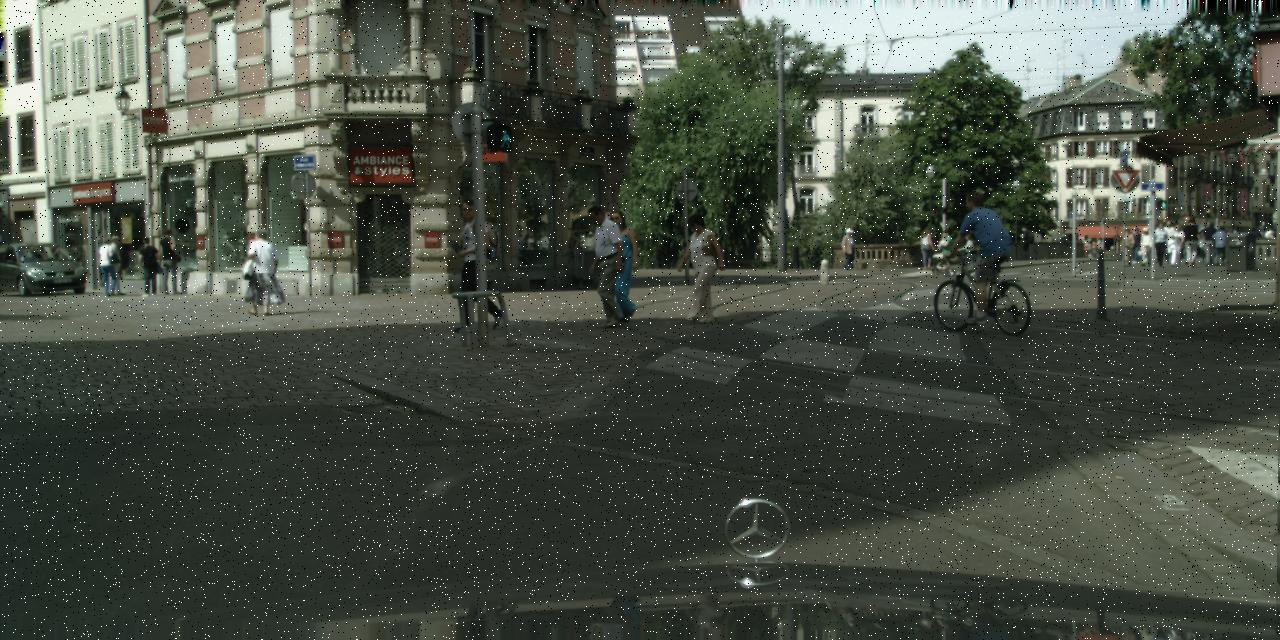ped: (448, 199, 501, 328), (960, 191, 1009, 311), (576, 206, 624, 326), (599, 210, 644, 319), (674, 213, 718, 323), (243, 226, 278, 315), (156, 228, 182, 294), (104, 234, 128, 295), (136, 236, 160, 296), (97, 237, 121, 296), (1180, 216, 1202, 266), (1200, 220, 1219, 266), (1150, 220, 1169, 266), (1194, 217, 1212, 262), (1159, 220, 1177, 264), (1168, 223, 1185, 266), (918, 226, 935, 269), (840, 227, 856, 269), (1119, 226, 1135, 266), (939, 229, 955, 269), (960, 232, 976, 272), (1138, 226, 1153, 265), (1213, 226, 1228, 264), (1128, 226, 1143, 263), (1081, 234, 1101, 258), (1215, 220, 1228, 254), (1018, 226, 1030, 260), (1221, 230, 1233, 260), (1254, 224, 1276, 239)
